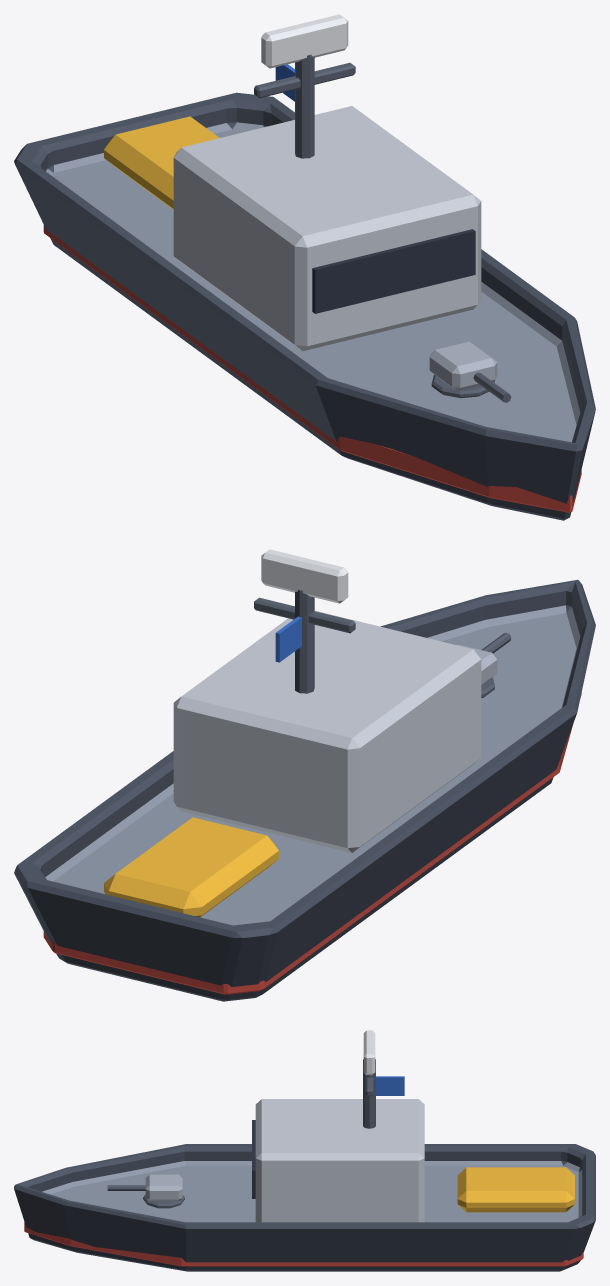
Rendered from patrulha.glb.
3 renders of one model, top to bottom at view 1: azimuth 30°, elevation 25°; view 2: azimuth 150°, elevation 25°; view 3: azimuth 270°, elevation 25°, orthographic. The views are drawn at different scales.
Visible parts, largest first — view 1: patrulha; view 2: patrulha; view 3: patrulha.
Boxes of the visible parts, <box> form: patrulha: <box>14,14,595,520</box>; patrulha: <box>14,549,595,1001</box>; patrulha: <box>14,1030,595,1271</box>.
Bounding box in the file's own units: 1.33 × 1.49 × 3.97.
